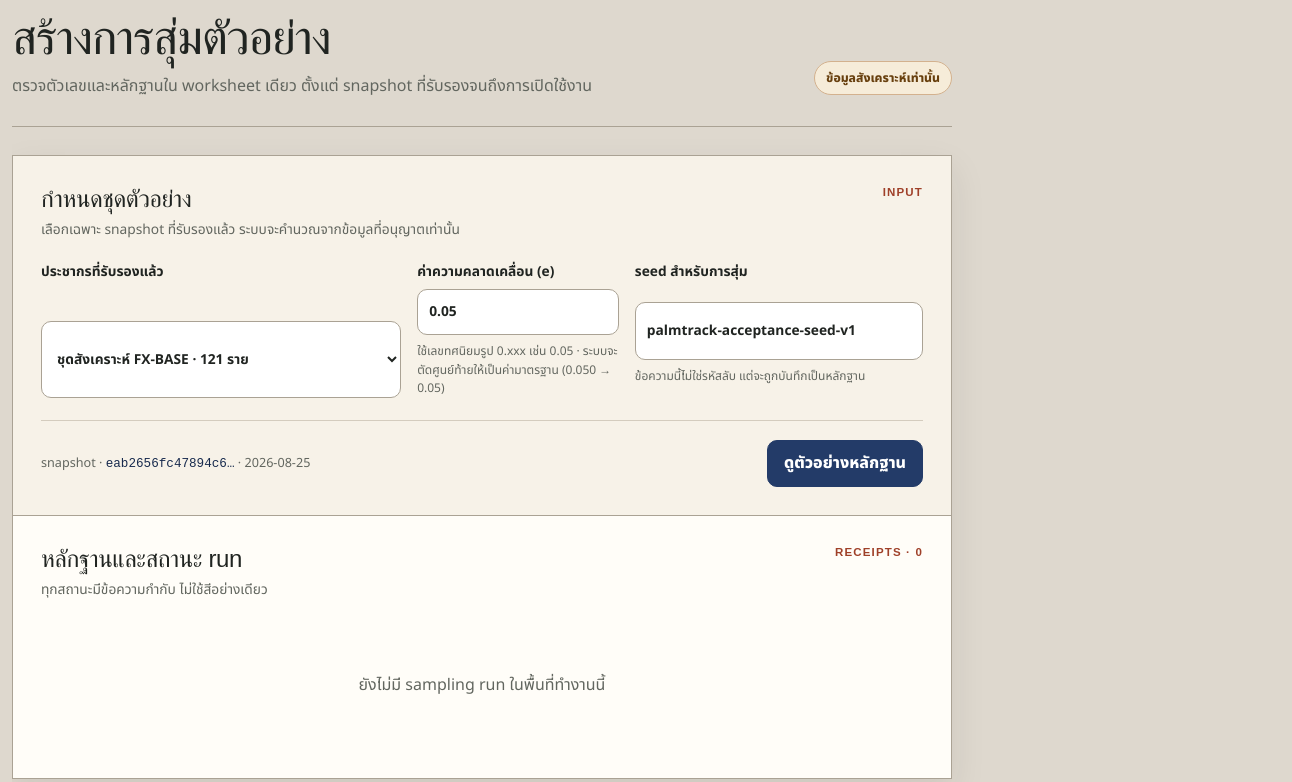
SamplingWorkbench › shows safe validation copy and keeps full digests available as text
Click the button "ดูตัวอย่างหลักฐาน" at (845, 463), box x1=767 y1=440 x2=923 y2=487
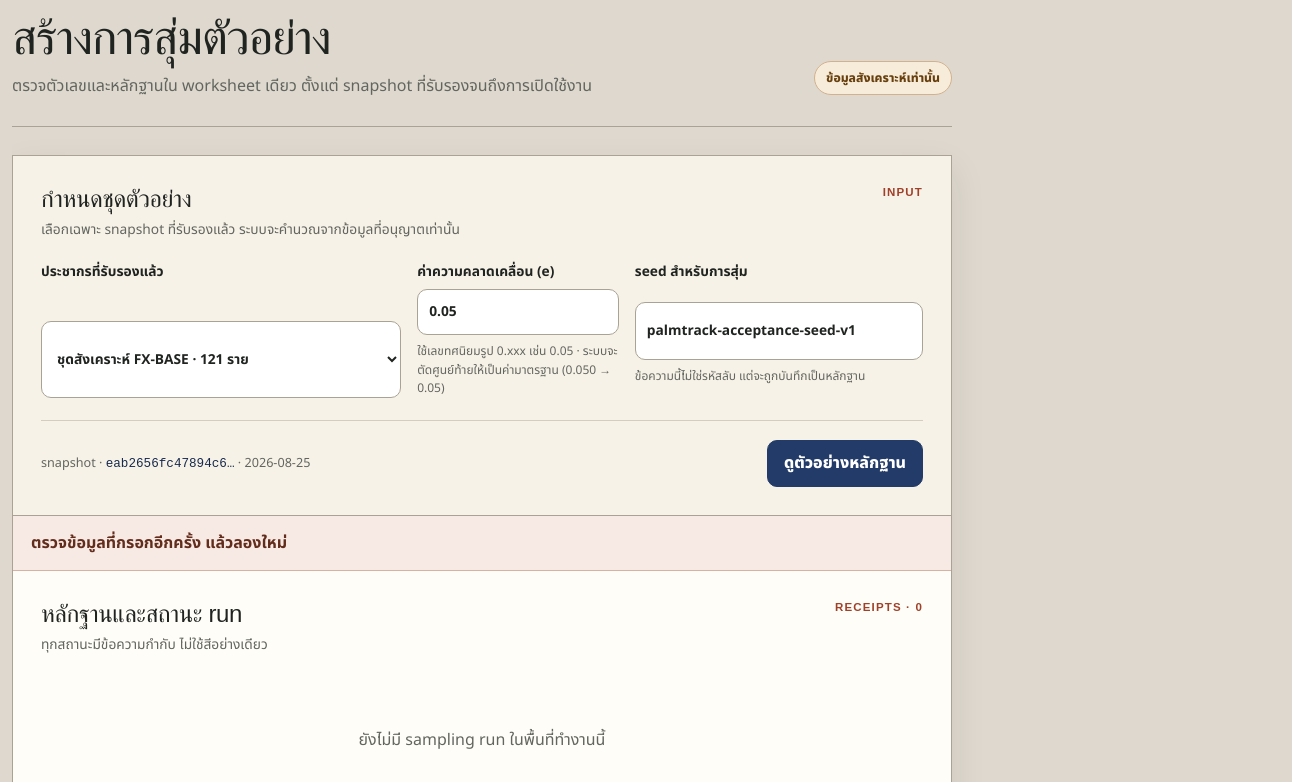
Now the message reads "ตรวจข้อมูลที่กรอกอีกครั้ง แล้วลองใหม่", box x1=31 y1=531 x2=287 y2=555
Click the button "ดูตัวอย่างหลักฐาน" at (845, 463), box x1=767 y1=440 x2=923 y2=487
(page scrolled)
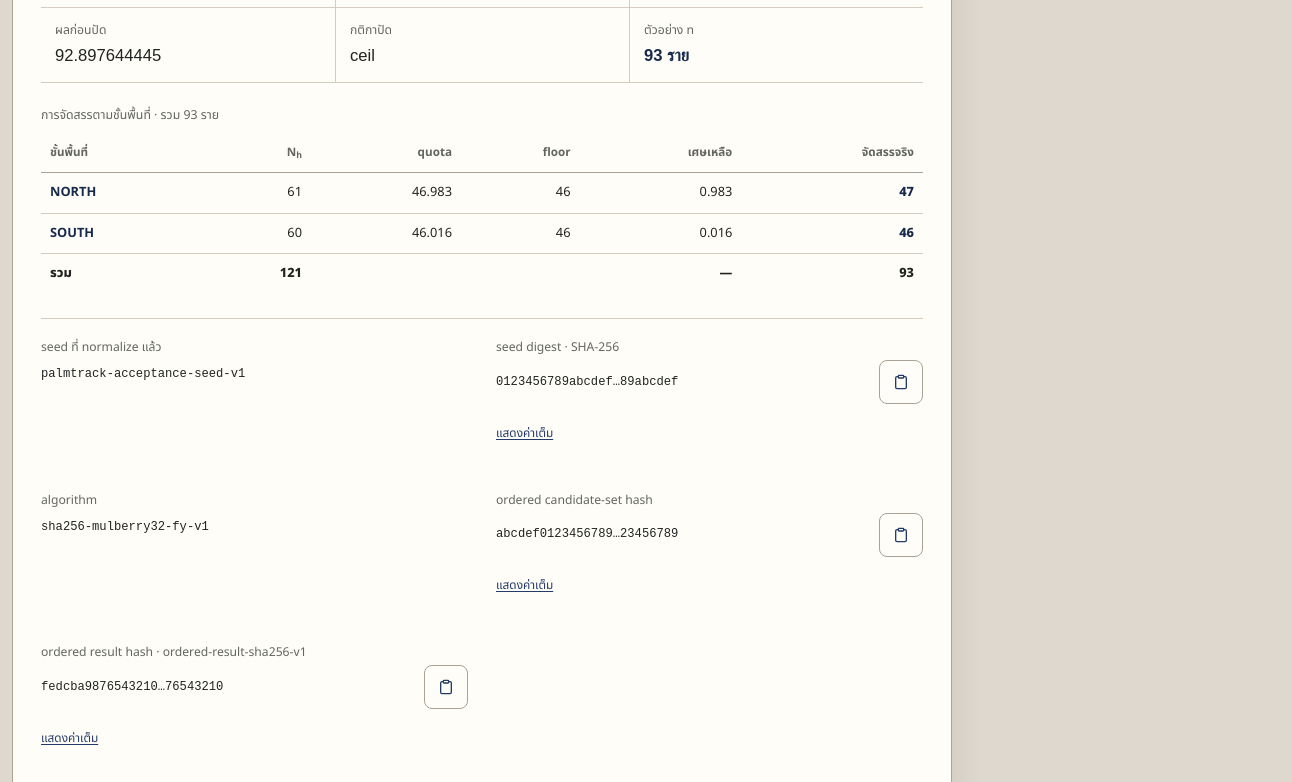
Now the button named "คัดลอก seed digest แบบเต็ม" is shown, box x1=879 y1=360 x2=923 y2=404
